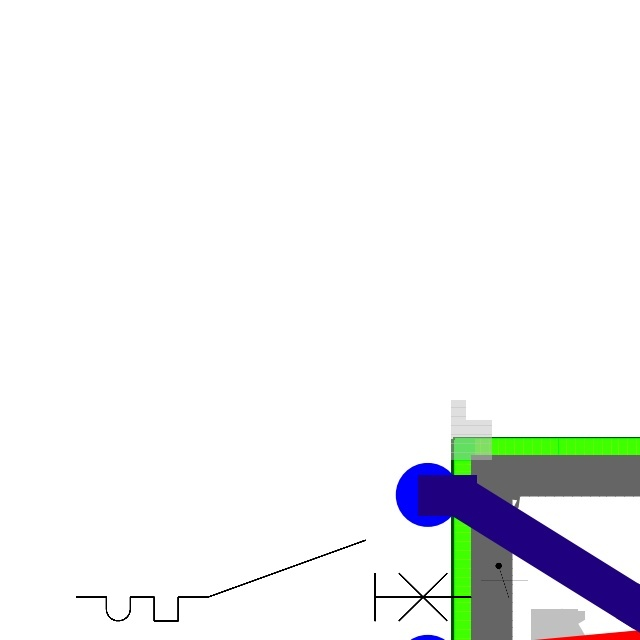interruptor_termomagnetico: (66, 530, 481, 631)
